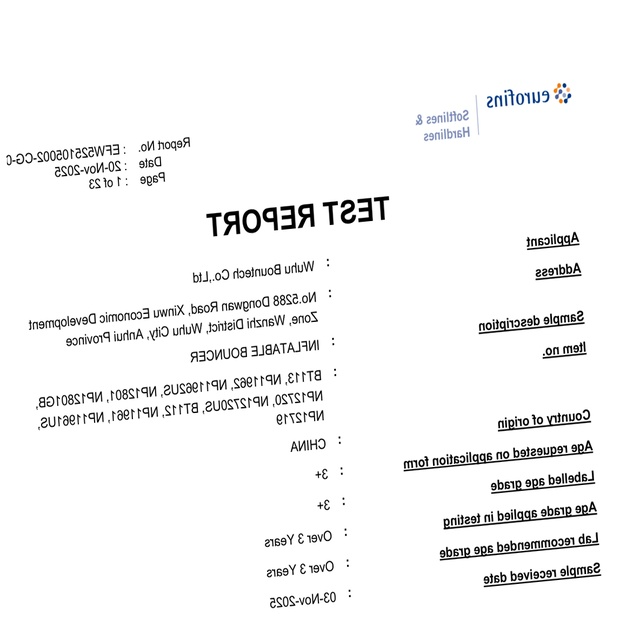eurofins: (483, 81, 571, 112)
